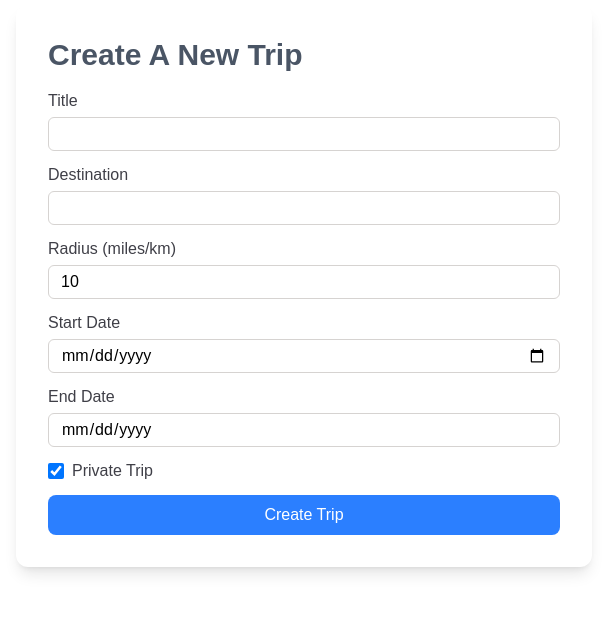
Test: NewTripForm › displays error if addTrip fails
In the field labelled "Title": point(304, 134) x1=48 y1=117 x2=560 y2=151, type "Fail Trip"
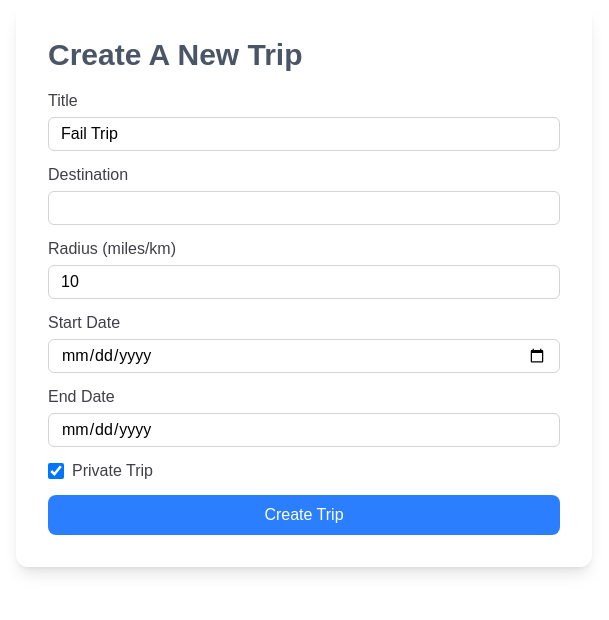
In the field labelled "Destination": point(304, 208) x1=48 y1=191 x2=560 y2=225, type "Nowhere"
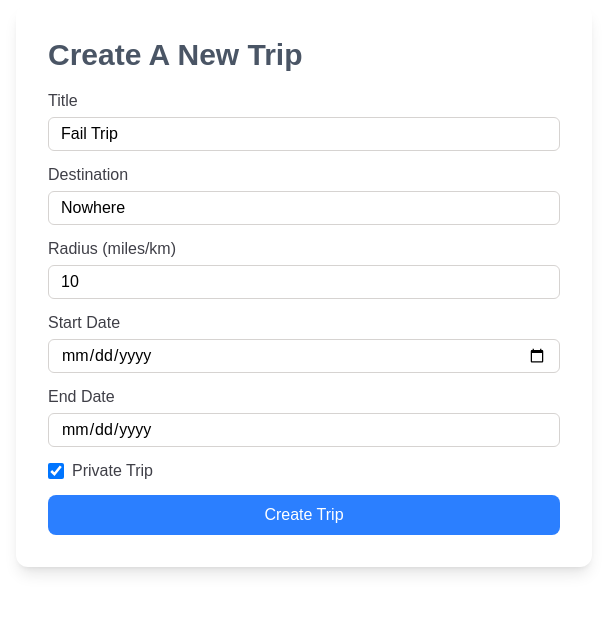
Click the button "Create Trip": point(304, 515) x1=48 y1=495 x2=560 y2=535
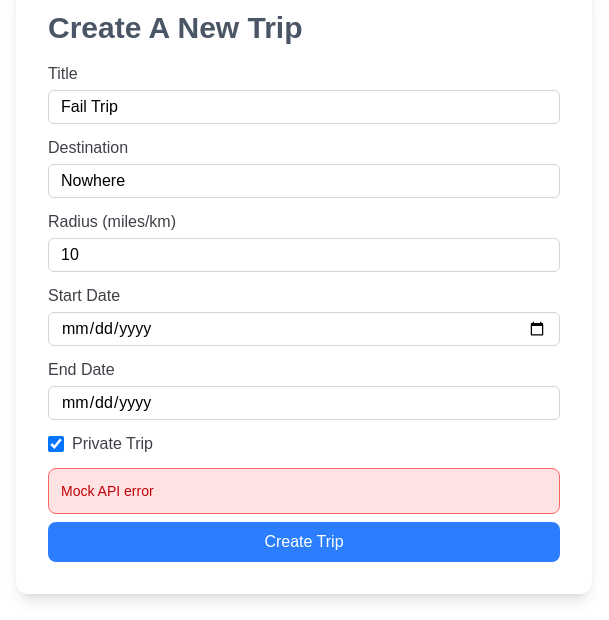
Check: the text "Mock API error" is shown, box x1=61 y1=483 x2=154 y2=499
